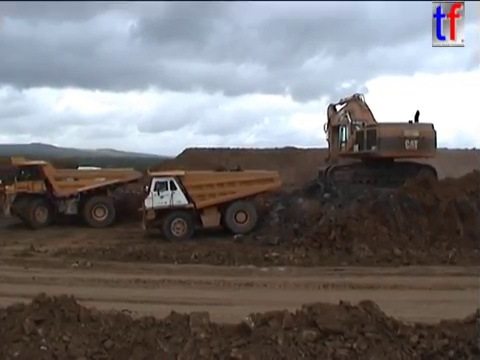excavator: (316, 91, 439, 194)
truck: (137, 165, 283, 242), (1, 155, 142, 230)
